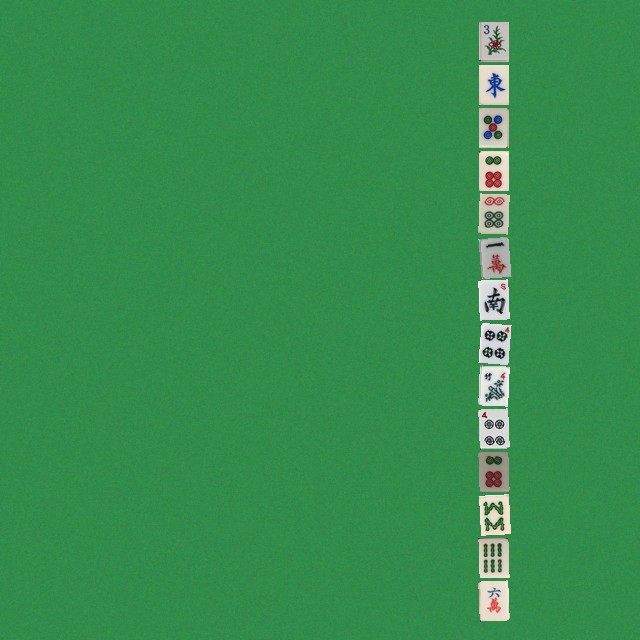tile: (478, 21, 508, 61), (478, 64, 508, 104), (478, 107, 508, 147), (478, 150, 508, 190), (478, 193, 508, 233), (478, 236, 508, 276), (478, 279, 508, 319), (478, 322, 508, 362), (478, 365, 508, 405), (478, 408, 508, 448), (478, 451, 508, 491), (478, 494, 508, 534), (478, 537, 508, 577), (478, 580, 508, 620)
